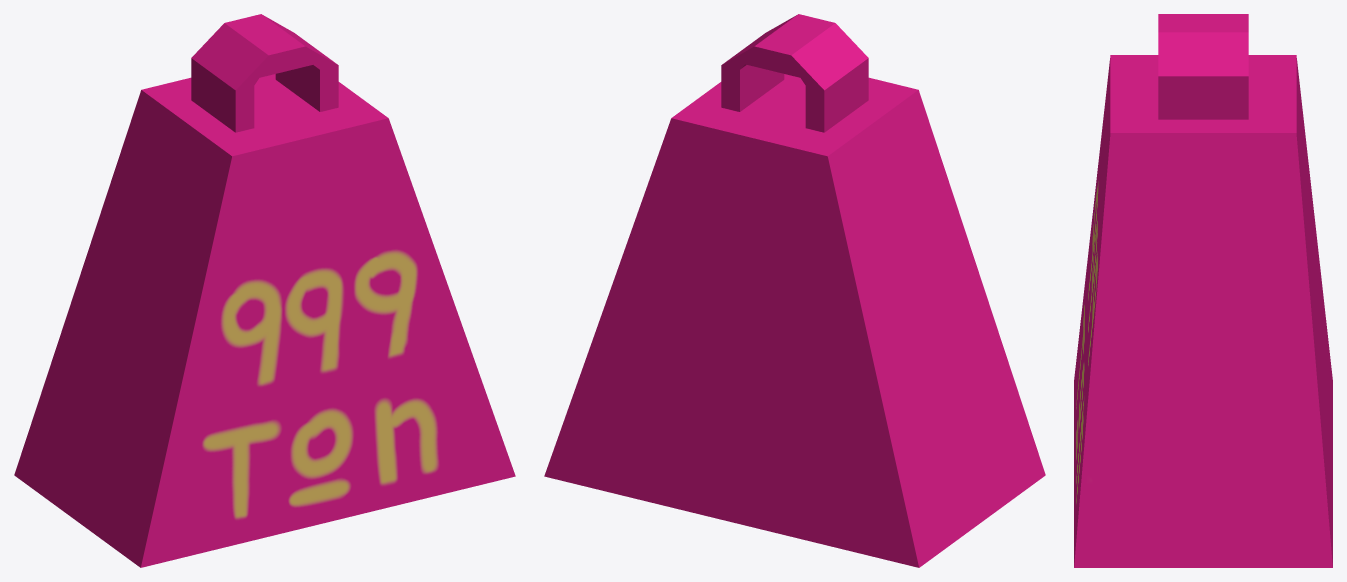
File: weight.glb
The picture shows the model from 3 angles, left to right: view 1: azimuth 30°, elevation 25°; view 2: azimuth 150°, elevation 25°; view 3: azimuth 270°, elevation 25°; orthographic projection. The views are drawn at different scales.
Visible parts, largest first — view 1: Cube; view 2: Cube; view 3: Cube.
Part boxes in pixels (bbox=[...]): Cube: bbox=[14, 14, 515, 567]; Cube: bbox=[544, 14, 1045, 567]; Cube: bbox=[1074, 14, 1332, 567].
Bounding box in the file's own units: 2 × 2.25 × 1.17.
1 material, 1 textured.
